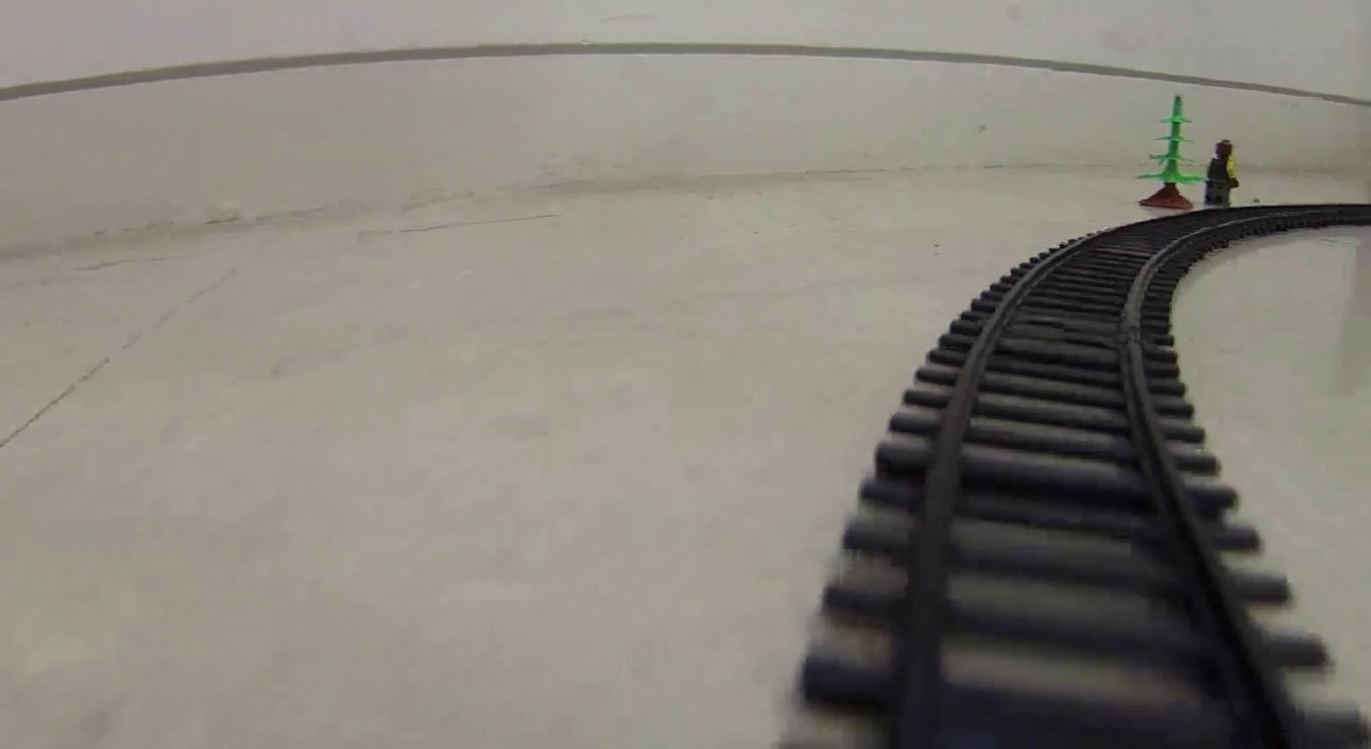people: (1203, 138, 1238, 206)
tree: (1137, 92, 1203, 207)
